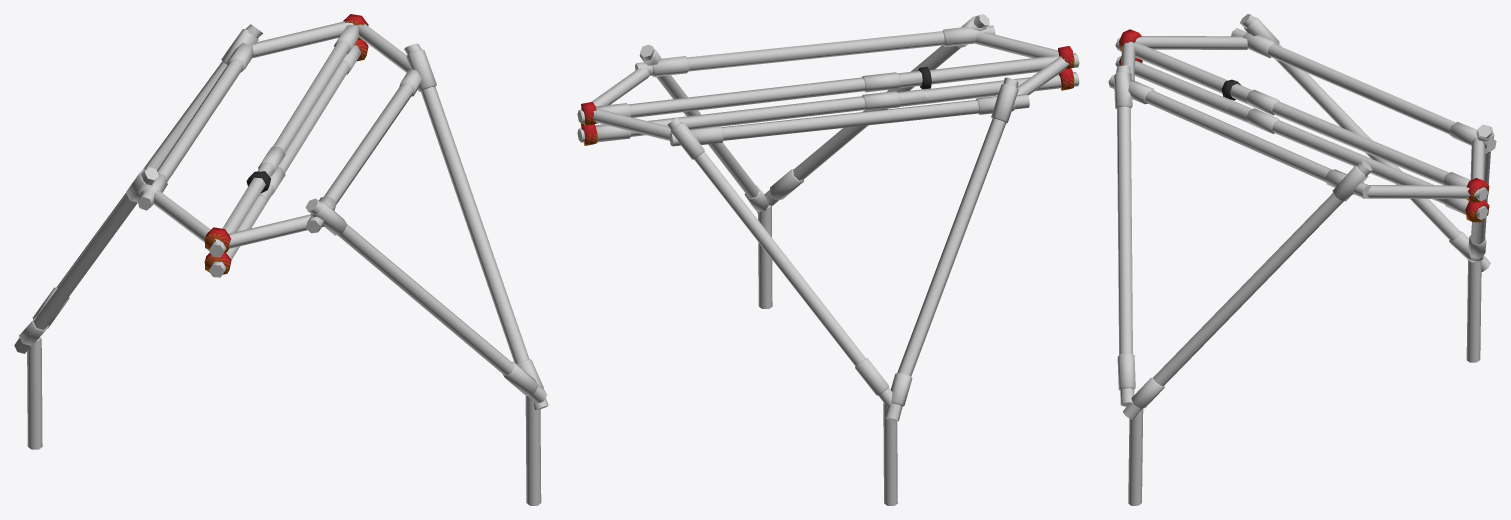
Rendered from builderRoofSaddleT03_WIP.FBX.
The picture shows the model from 3 angles, left to right: view 1: azimuth 30°, elevation 25°; view 2: azimuth 150°, elevation 25°; view 3: azimuth 270°, elevation 25°; orthographic projection. The views are drawn at different scales.
Parts seen in each view (by area): view 1: builderRoofSaddleT03T_WIP_LOD0; view 2: builderRoofSaddleT03T_WIP_LOD0; view 3: builderRoofSaddleT03T_WIP_LOD0.
Boxes of the visible parts, x1,y1,x2,y2 form: builderRoofSaddleT03T_WIP_LOD0: (14, 14, 548, 505); builderRoofSaddleT03T_WIP_LOD0: (577, 14, 1079, 505); builderRoofSaddleT03T_WIP_LOD0: (1108, 14, 1496, 505).
Size of what is drawn, in the model's own units: 3.3 by 3.27 by 3.35.
